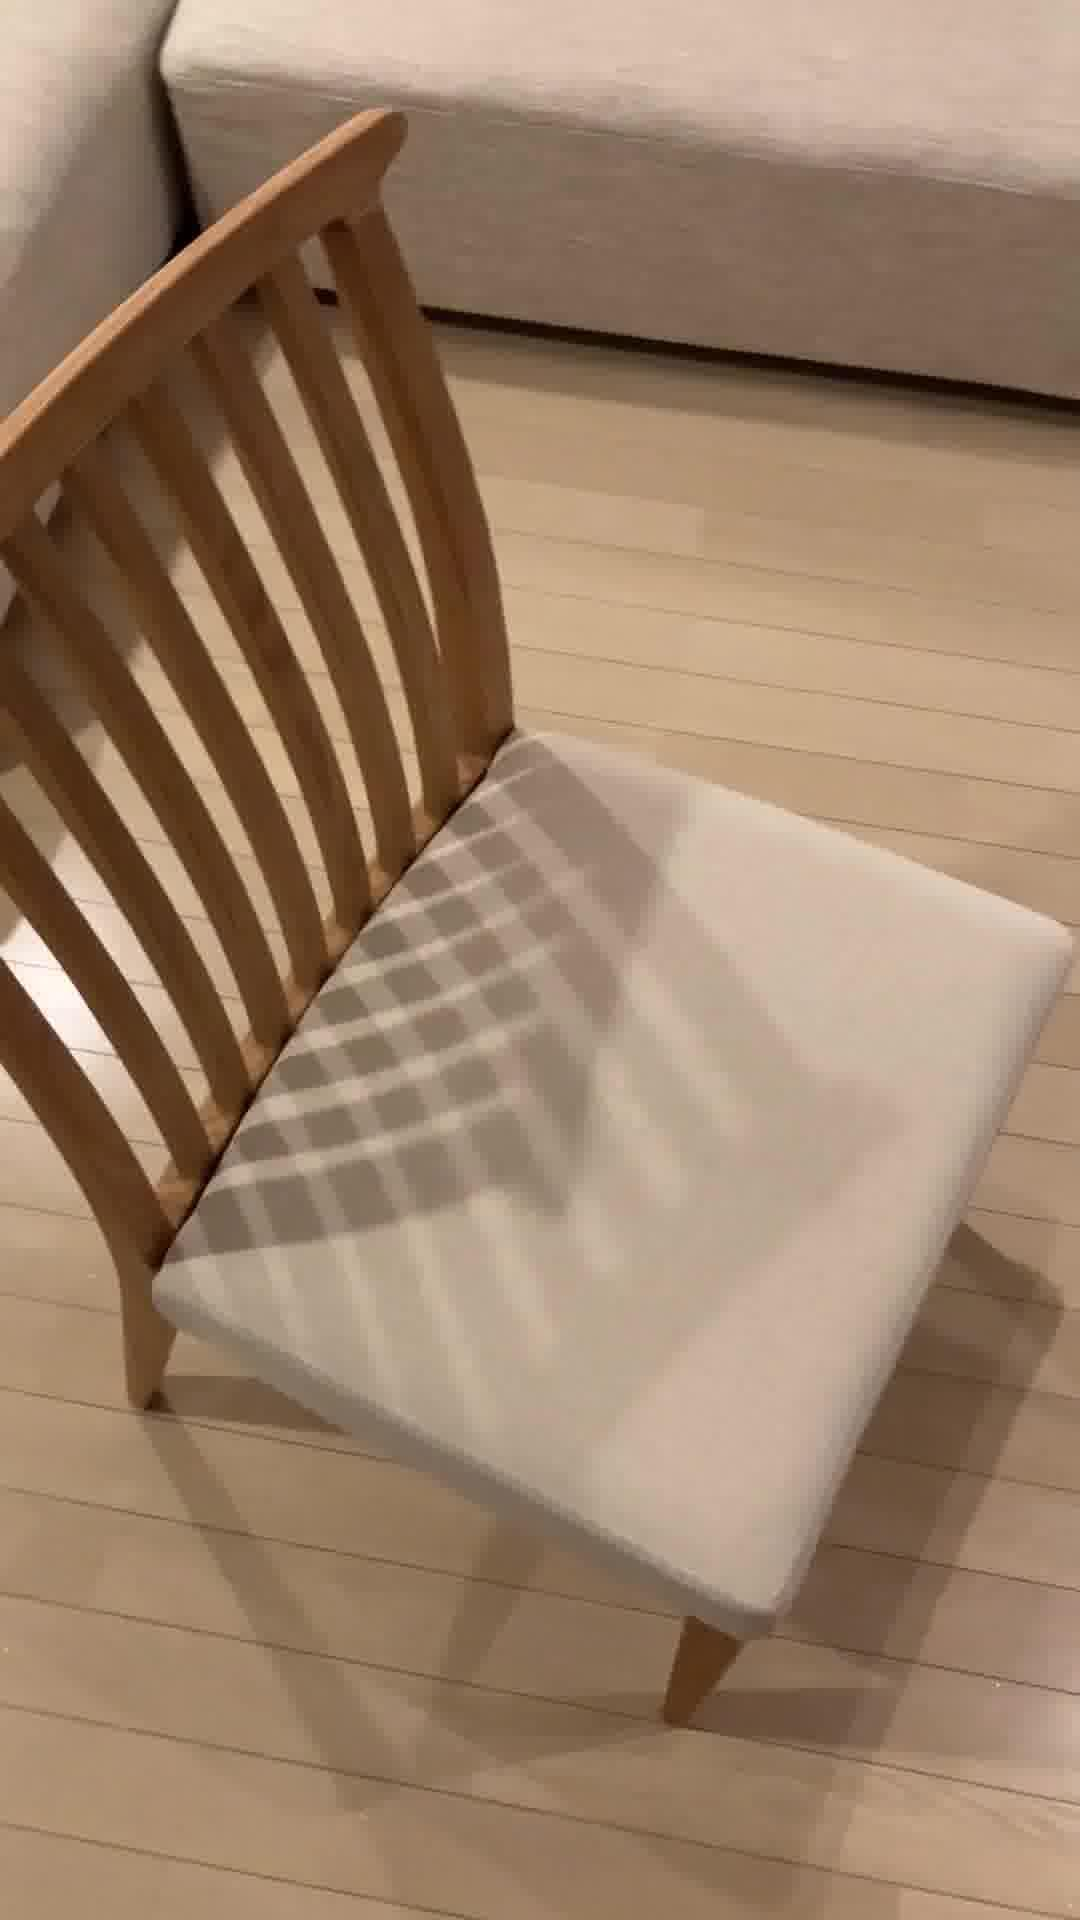takumikan-chair: (0, 105, 1080, 1731)
